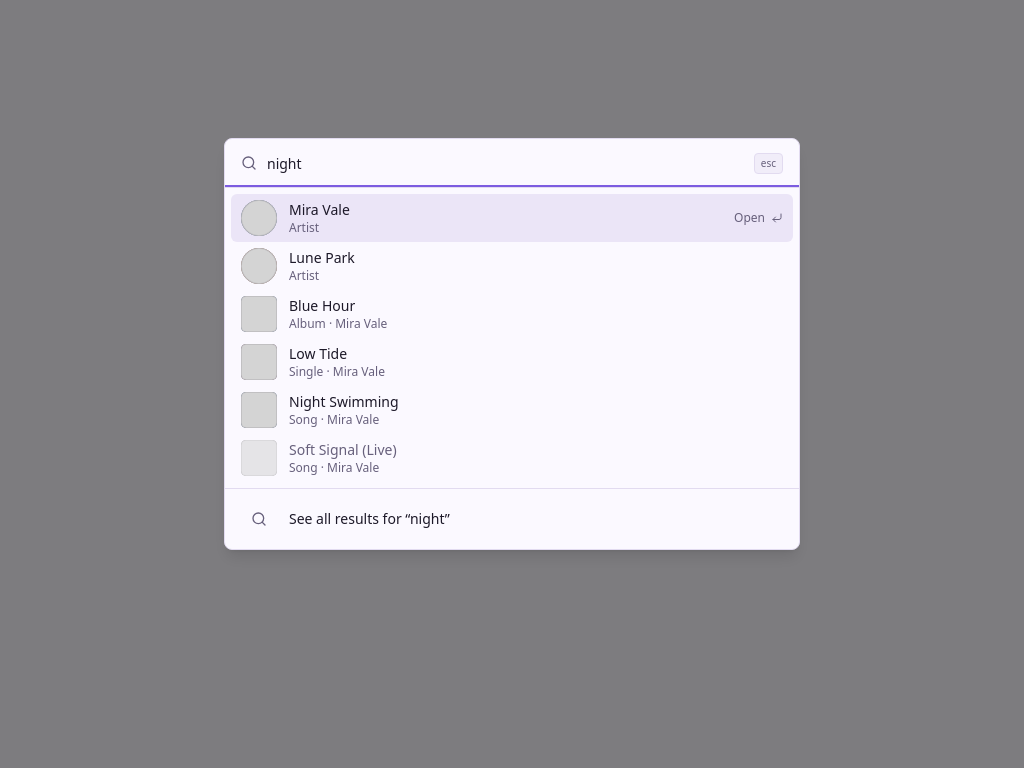
Test case: SearchDialog › says Play on a song that can play and Open on everything else
The image size is (1024, 768).
Hover over the option "Night Swimming Song · Mira Vale" at (259, 410), box [231,386,793,434]
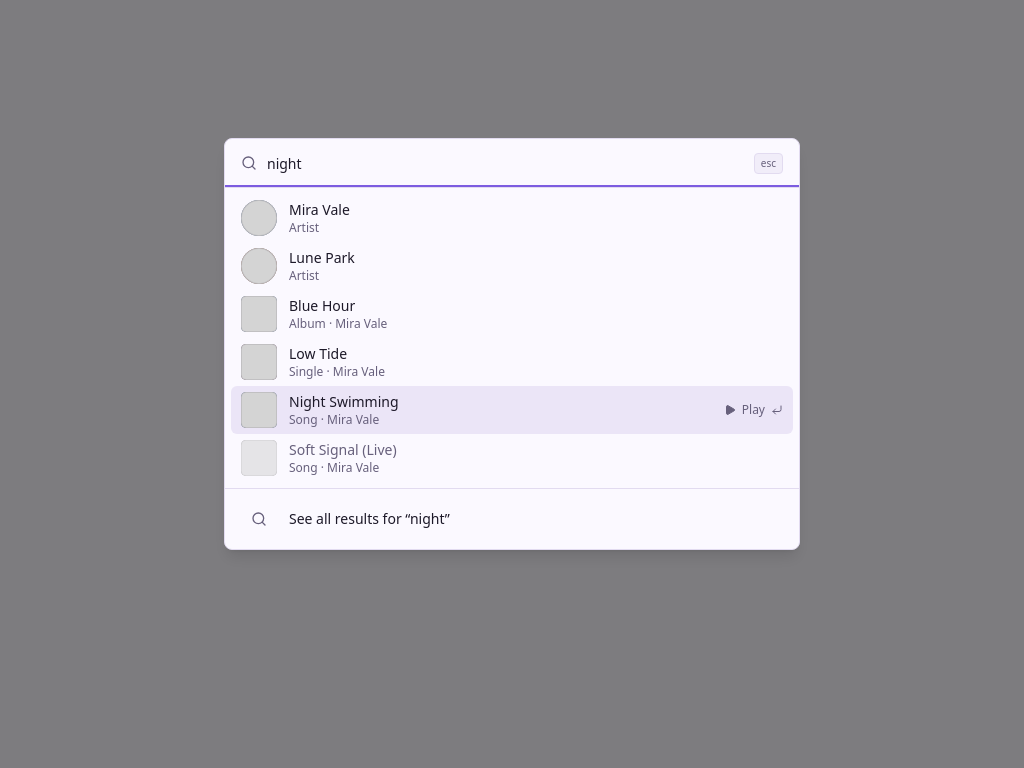
Expected: the text "Play" is shown once, [724,402,783,418]
Expected: the text "Play" is shown, [724,402,783,418]
Hover over the option "Soft Signal (Live) Song · Mira Vale" at (259, 458), box [231,434,793,482]
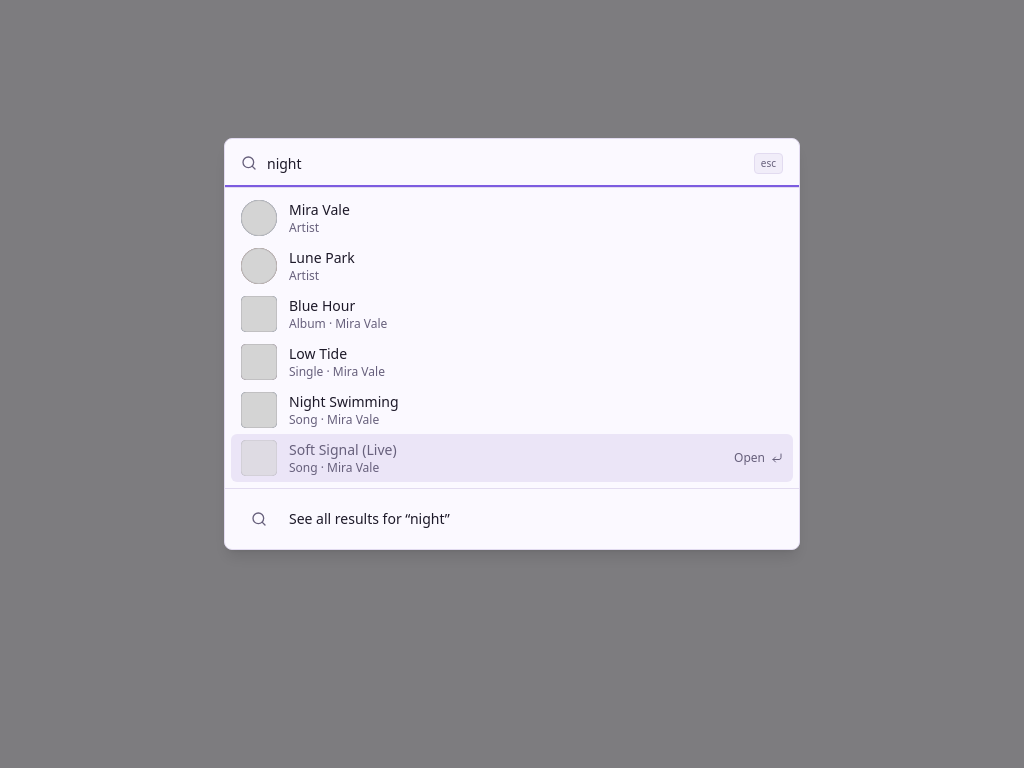
Hover over the option "Mira Vale Artist" at (259, 218), box [231,194,793,242]
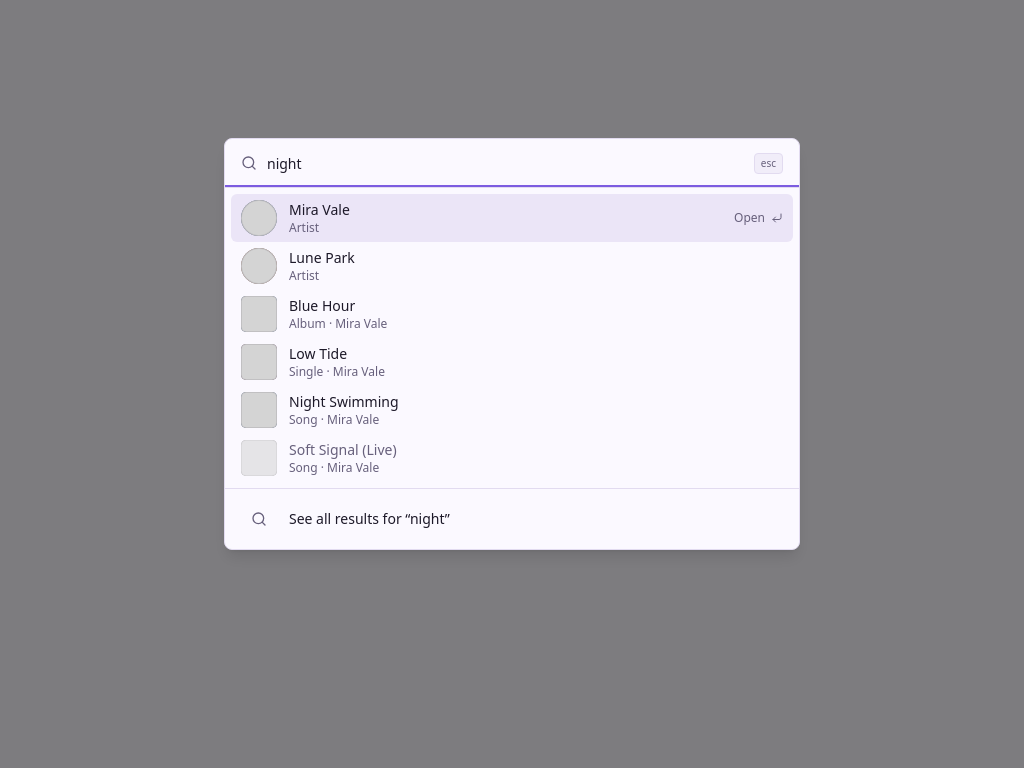
Hover over the option "Blue Hour Album · Mira Vale" at (259, 314), box [231,290,793,338]
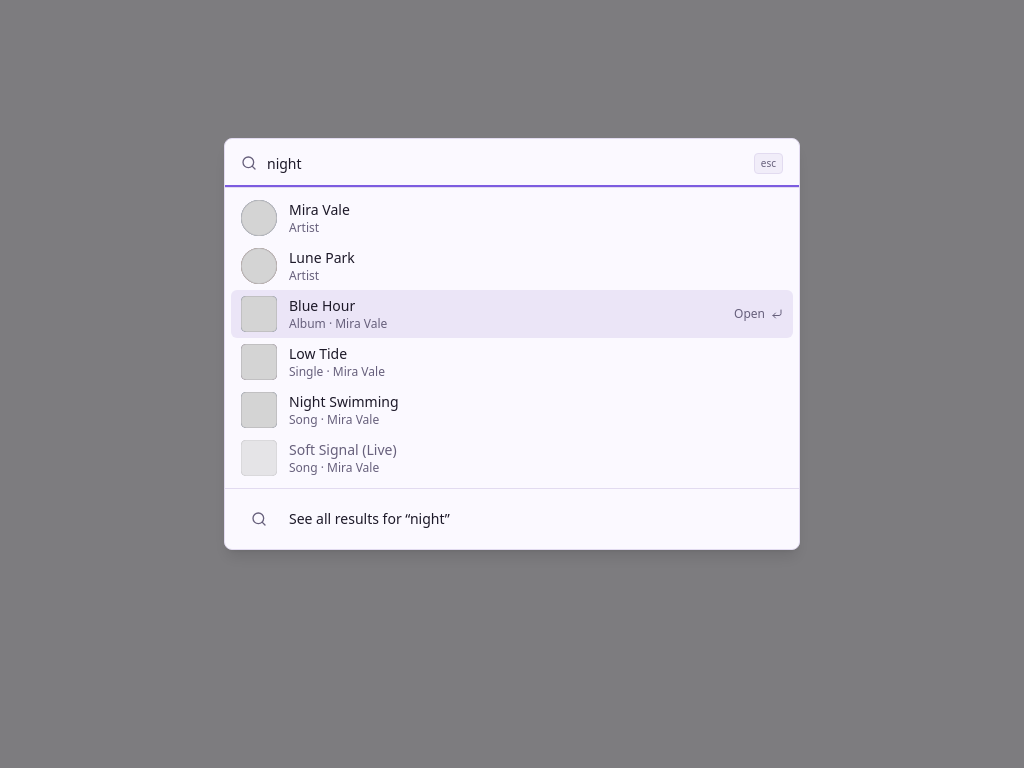
Expected: the text "Open" is shown, [734,306,783,322]
Hover over the option "See all results for “night”" at (369, 519), box [231,495,793,543]
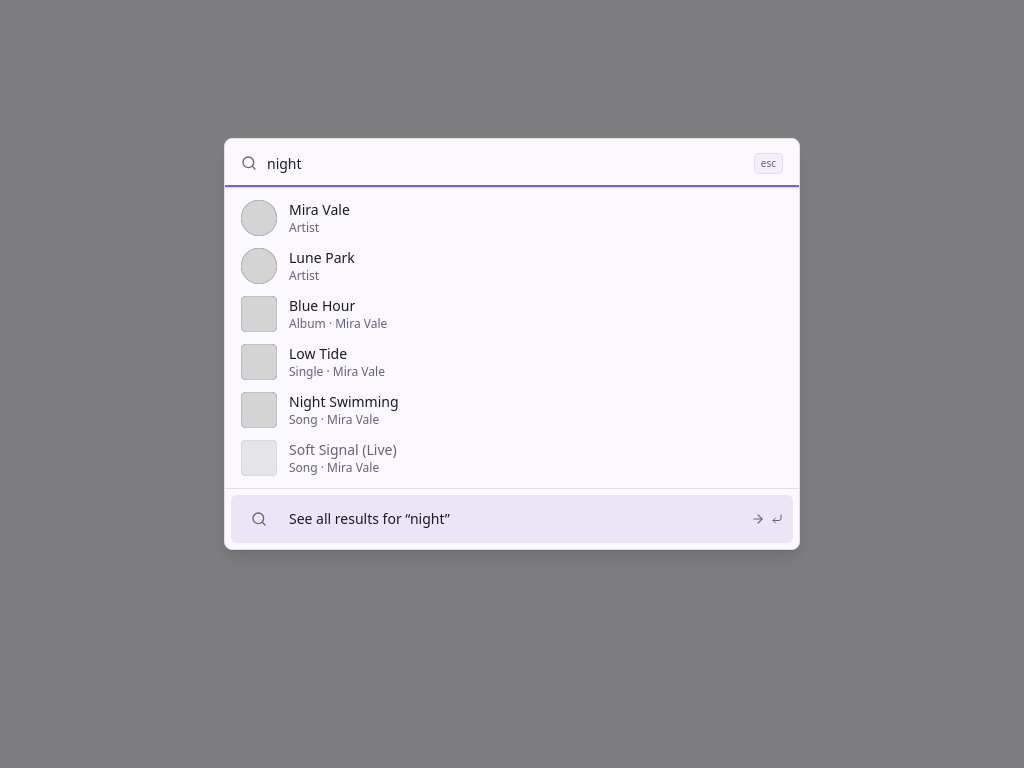
Expected: the text "Play" is not shown
Expected: the text "Open" is gone
